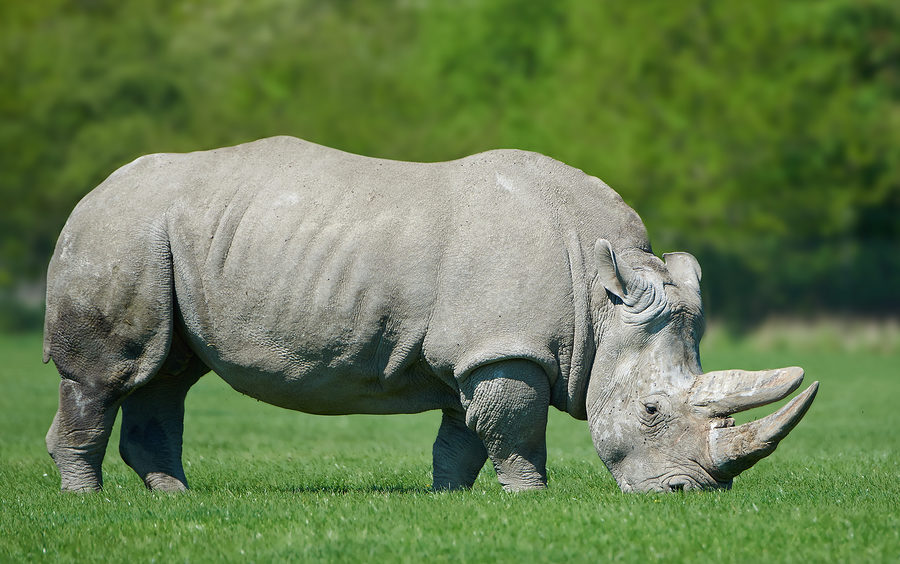rhinoceros: (41, 137, 820, 502)
